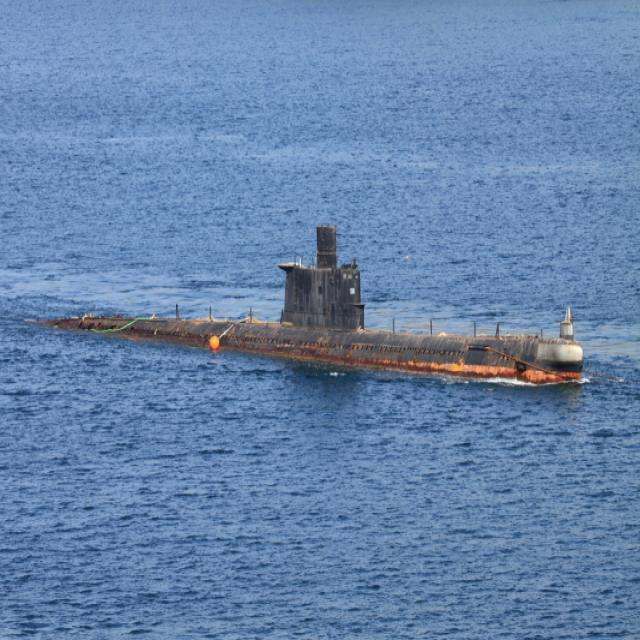submarine: (48, 211, 581, 384)
